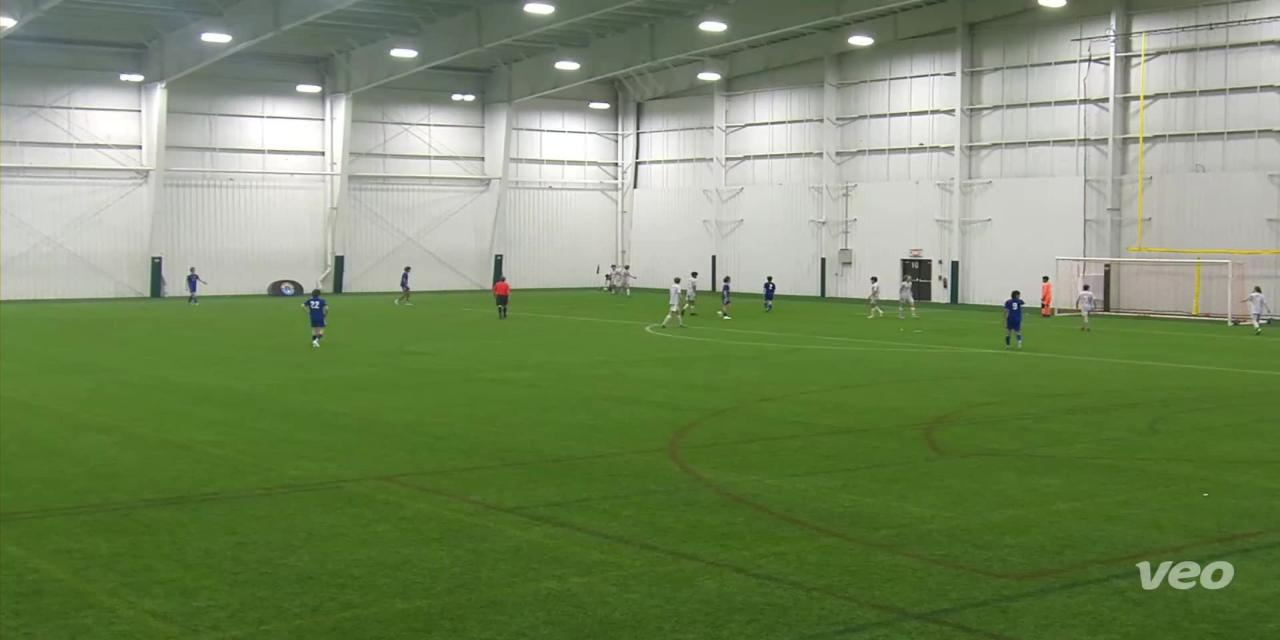goal: (1043, 250, 1276, 329)
sports ball: (600, 284, 610, 294)
